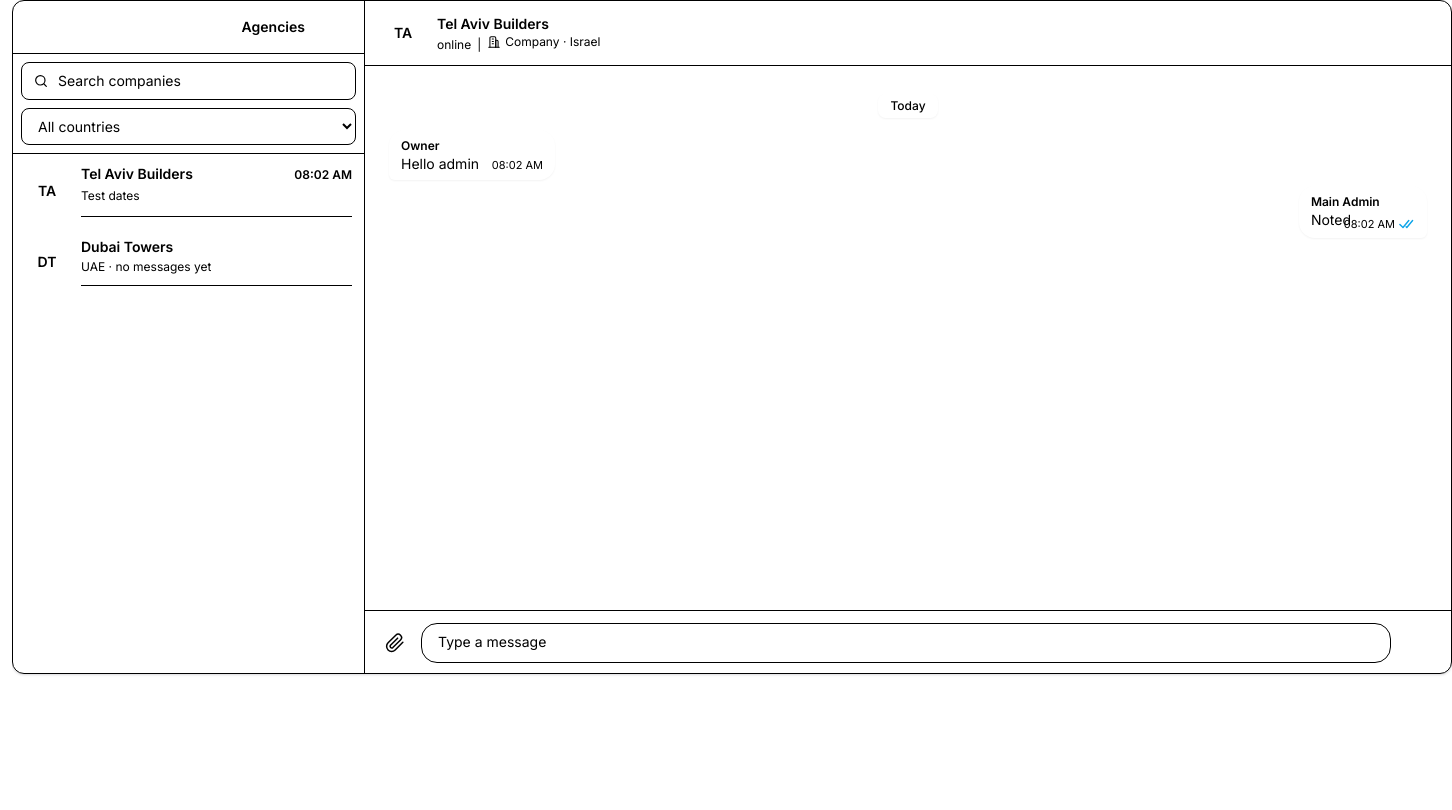
Messages - admin side › opens a conversation with read ticks and sends a message
Expected: the text "Hello admin" is shown, [401,155,479,172]
Expected: the text "online" is shown, [437,36,471,52]
Type "Thanks" into the text box labelled "message" at (906, 643), box [421,623,1391,663]
Then press Enter
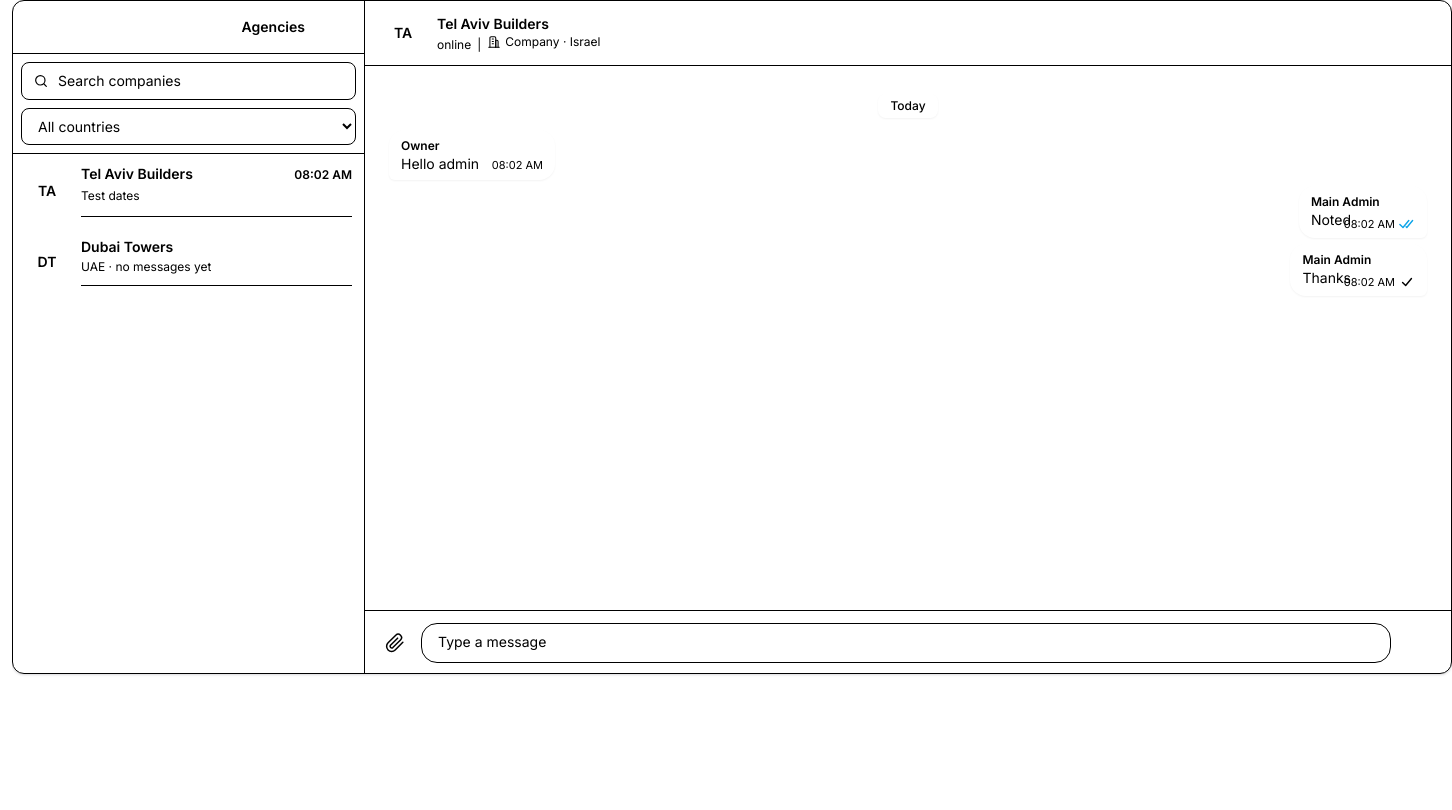
Expected: the text "Thanks" is shown, [1302,269,1351,286]
